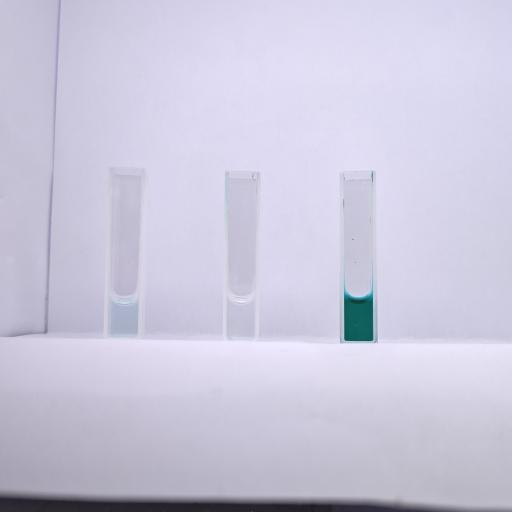cuvette: (103, 164, 148, 340), (338, 169, 380, 344), (222, 168, 262, 344)
liquid: (344, 294, 373, 341), (109, 294, 138, 335), (227, 294, 254, 338)
